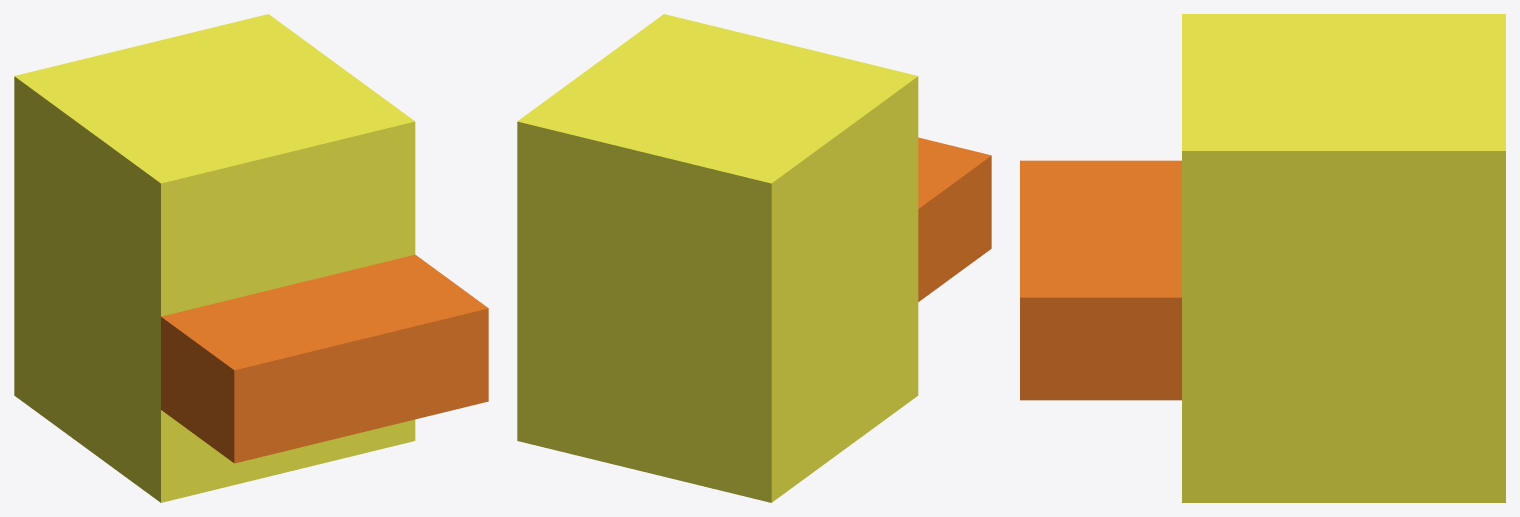
Rendered from duckling.gltf.
The picture shows the model from 3 angles, left to right: view 1: azimuth 30°, elevation 25°; view 2: azimuth 150°, elevation 25°; view 3: azimuth 270°, elevation 25°; orthographic projection. The views are drawn at different scales.
Visible parts, largest first — view 1: Duckie; view 2: Duckie; view 3: Duckie.
Part boxes in pixels (bbox=[...]): Duckie: bbox=[14, 14, 488, 502]; Duckie: bbox=[517, 14, 991, 502]; Duckie: bbox=[1020, 14, 1505, 502].
Bounding box in the file's own units: 0.2 × 0.24 × 0.3.
